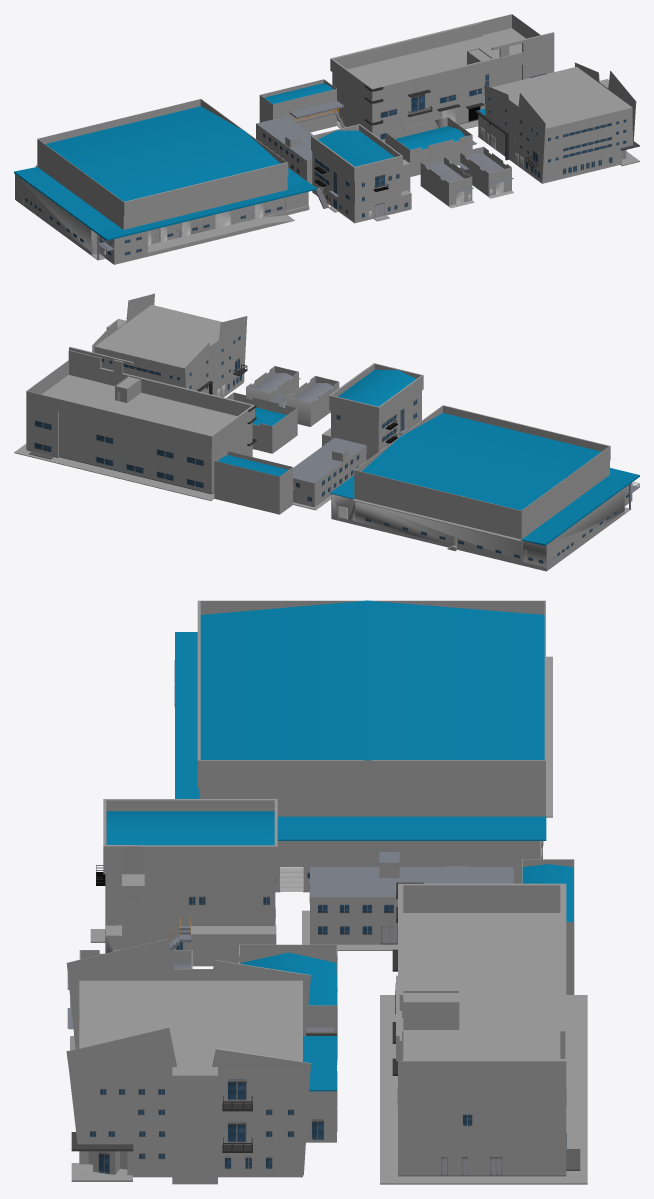
The model's file is soubrain_T3.glb.
The picture shows the model from 3 angles, top to bottom: view 1: azimuth 30°, elevation 25°; view 2: azimuth 150°, elevation 25°; view 3: azimuth 270°, elevation 25°; orthographic projection. The views are drawn at different scales.
Parts seen in each view (by area): view 1: Rectangle132, Box181, Box919, Rectangle1017, Rectangle046, Rectangle001, Box342, Rectangle019, Box016, Box732, Box163, Box439 (+4 smaller); view 2: Rectangle132, Box181, Box919, Rectangle1017, Rectangle001, Box342, Rectangle046, Rectangle019, Box016, Box163, Box480, Box732; view 3: Rectangle132, Box181, Box919, Rectangle1017, Box342, Rectangle046, Rectangle001, Box776, Box732.
Boxes of the visible parts, box(x1,y1,x2,y2) form: Rectangle132: box(14, 99, 317, 264); Box181: box(330, 14, 554, 141); Box919: box(478, 62, 639, 183); Rectangle1017: box(311, 124, 411, 223); Rectangle046: box(385, 117, 472, 176); Rectangle001: box(259, 79, 336, 132); Box342: box(256, 116, 313, 184); Rectangle019: box(420, 156, 474, 208); Box016: box(460, 146, 513, 198); Box732: box(488, 97, 626, 177); Box163: box(379, 73, 546, 139); Box439: box(148, 203, 263, 244); Rectangle132: box(330, 405, 639, 571); Box181: box(14, 347, 254, 500); Box919: box(92, 293, 247, 397); Rectangle1017: box(322, 363, 423, 460); Rectangle001: box(214, 451, 292, 514); Box342: box(293, 437, 366, 510); Rectangle046: box(226, 392, 297, 453); Rectangle019: box(286, 376, 339, 426); Box016: box(246, 366, 298, 406); Box163: box(33, 420, 204, 488); Box480: box(365, 494, 628, 563); Box732: box(101, 336, 241, 390); Rectangle132: box(175, 600, 552, 892); Box181: box(380, 883, 587, 1184); Box919: box(66, 938, 336, 1184); Rectangle1017: box(90, 799, 277, 966); Box342: box(302, 852, 513, 950); Rectangle046: box(239, 944, 337, 1064); Rectangle001: box(522, 859, 574, 994); Box776: box(98, 1079, 324, 1174); Box732: box(79, 1006, 337, 1169).
Size of what is drawn, in the model's own units: 173 by 24.67 by 76.23.
23 materials, 11 textured.
